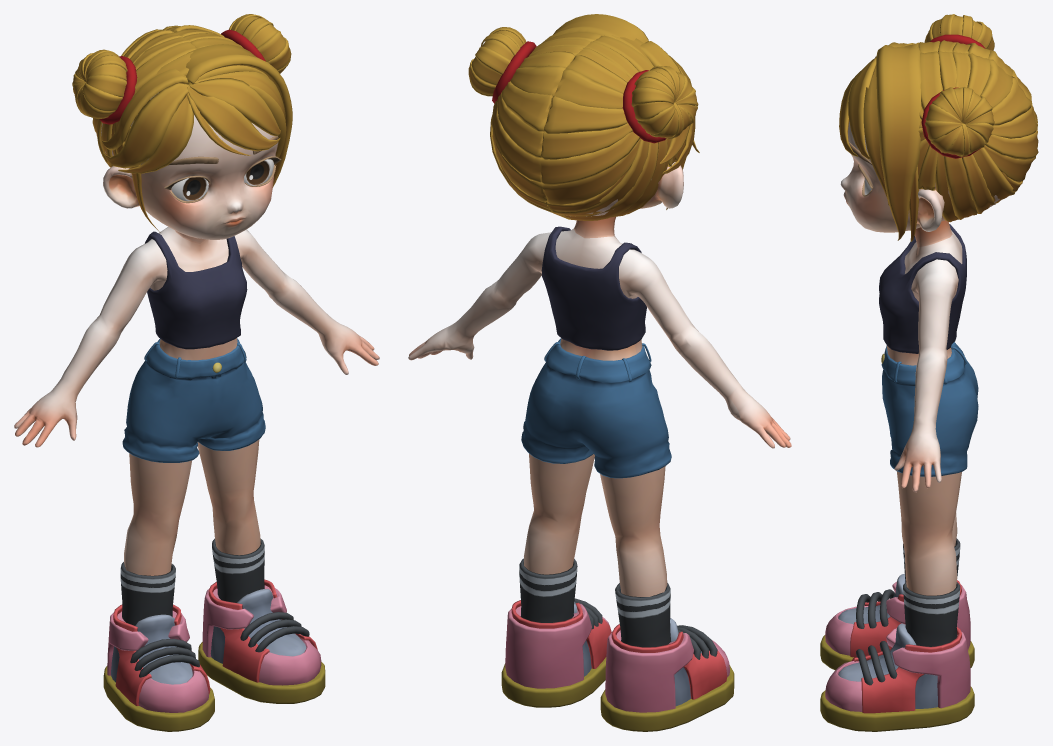
The picture shows the model from 3 angles, left to right: view 1: azimuth 30°, elevation 25°; view 2: azimuth 150°, elevation 25°; view 3: azimuth 270°, elevation 25°; orthographic projection. The views are drawn at different scales.
Parts seen in each view (by area): view 1: pants3, body_base, hair3, top3; view 2: pants3, hair3, body_base, top3; view 3: hair3, pants3, body_base, top3.
Boxes of the visible parts, x1,y1,x2,y2 form: pants3: (103, 338, 325, 731); body_base: (14, 96, 379, 575); hair3: (72, 14, 292, 232); top3: (145, 231, 247, 349); pants3: (501, 338, 734, 731); hair3: (468, 14, 699, 220); body_base: (408, 162, 791, 596); top3: (541, 226, 646, 350); hair3: (839, 14, 1038, 241); pants3: (820, 342, 978, 731); body_base: (840, 121, 1000, 595); top3: (879, 224, 966, 353).
Bounding box in the file's own units: 85.36 × 144 × 44.81.
